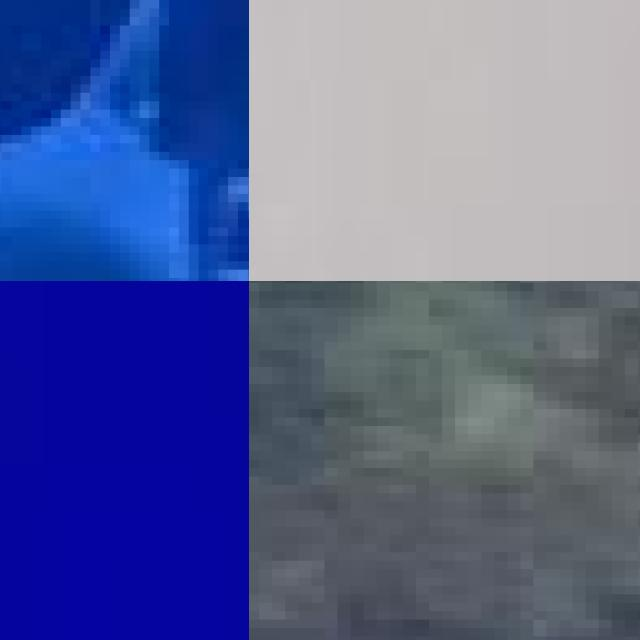fish: (0, 0, 249, 281)
